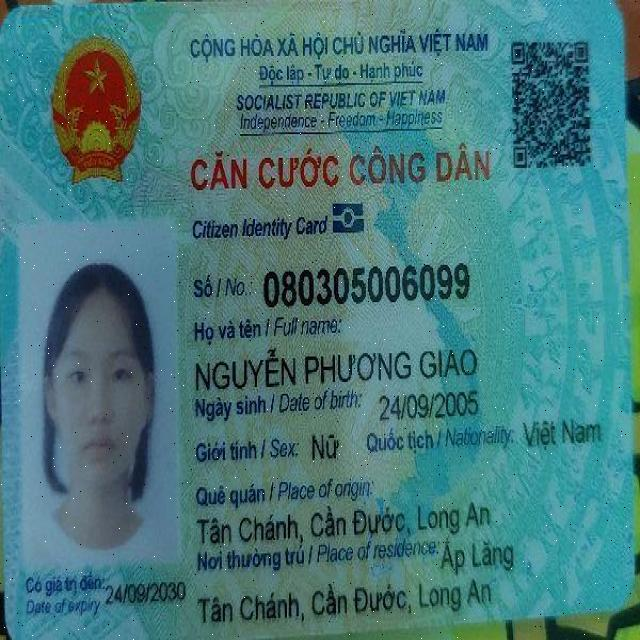current_place: (193, 574, 499, 625), (437, 534, 520, 573)
dob: (377, 386, 487, 425)
expire_date: (104, 579, 193, 608)
gender: (309, 427, 343, 466)
id: (259, 262, 469, 308)
name: (191, 345, 482, 388)
nationality: (517, 414, 605, 453)
origin_place: (191, 502, 501, 545)
